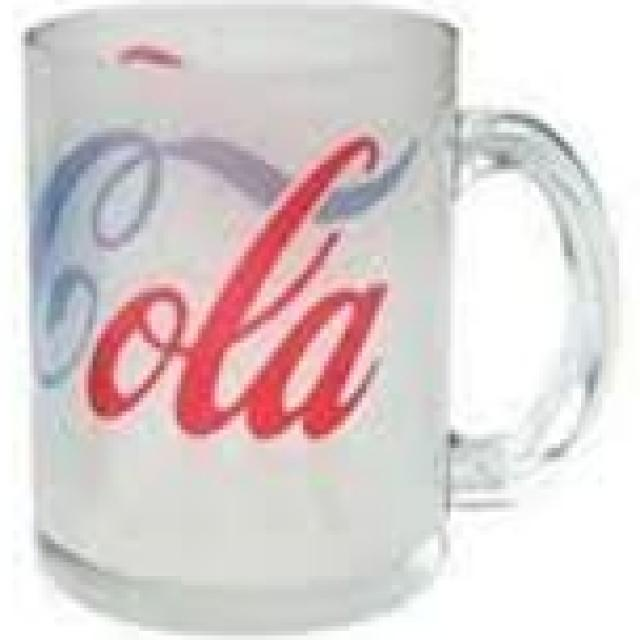taza: (22, 0, 622, 640)
